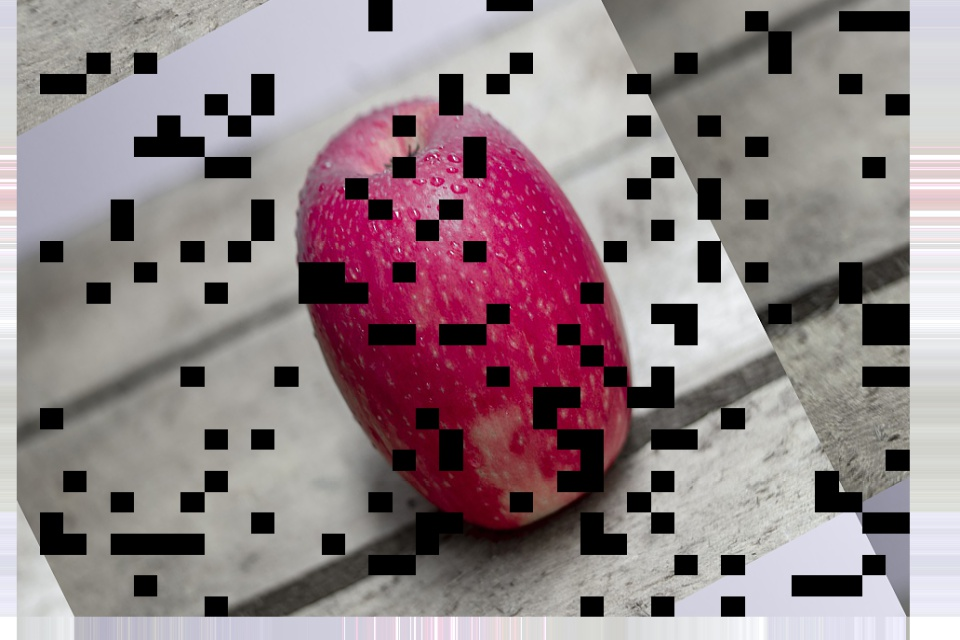apple: (207, 7, 727, 602)
